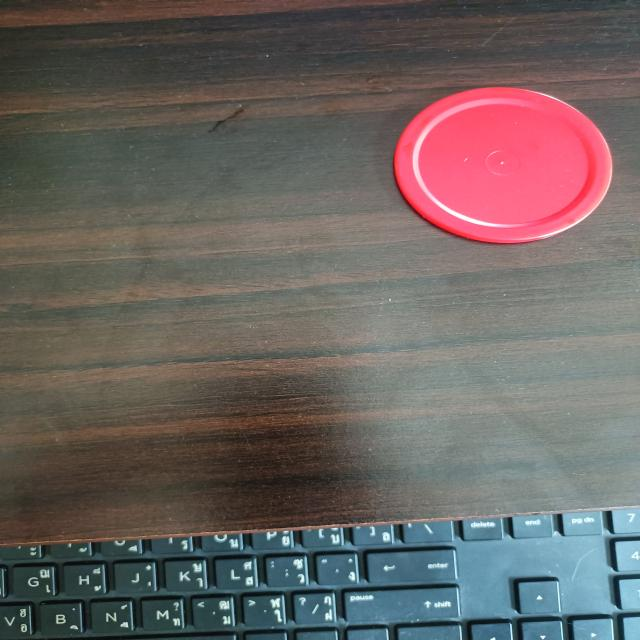chip: (386, 83, 614, 253)
